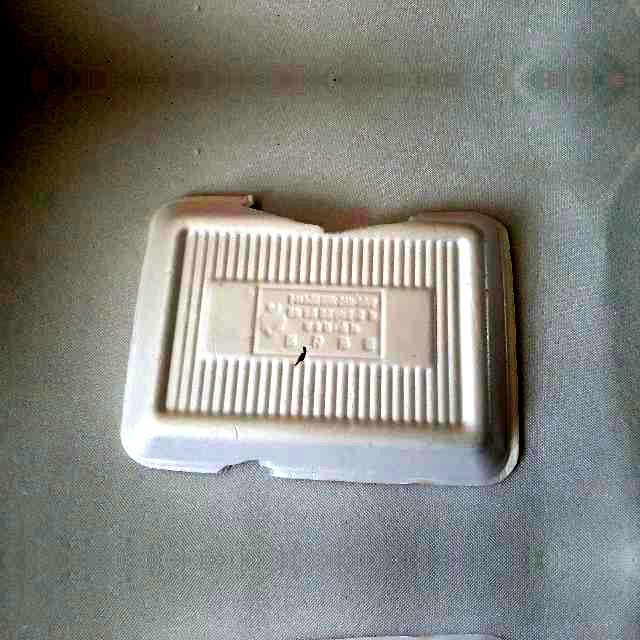Styrofoam: (120, 195, 522, 487), (121, 195, 519, 486)
